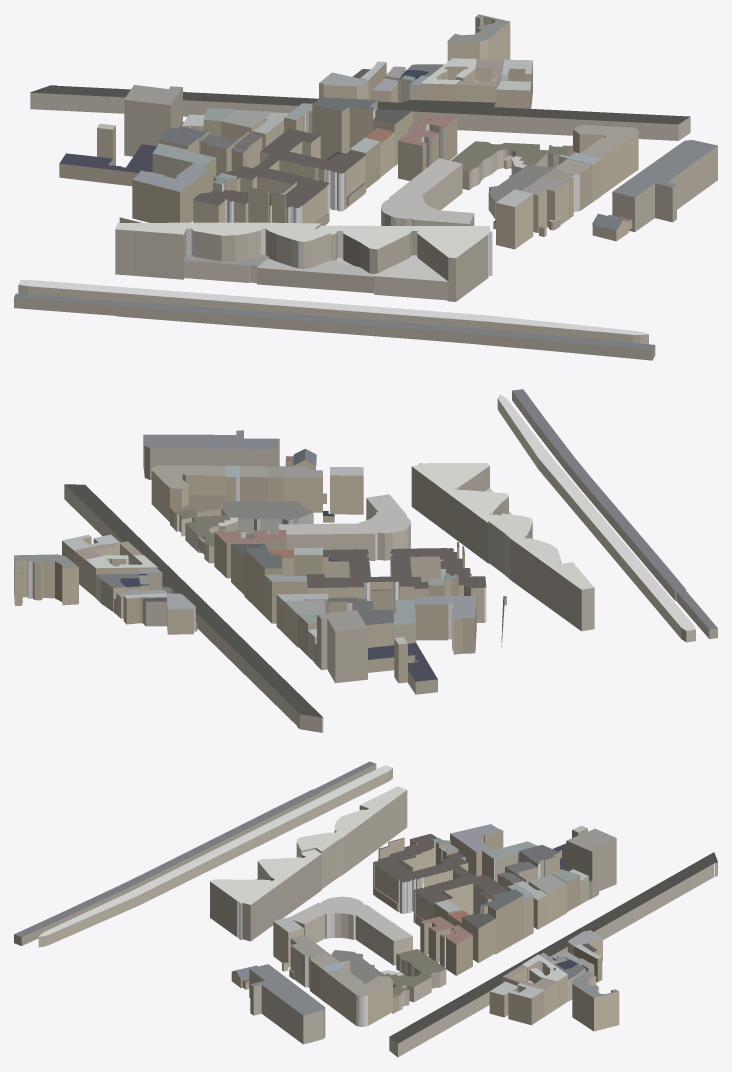
The picture shows the model from 3 angles, top to bottom: view 1: azimuth 30°, elevation 25°; view 2: azimuth 150°, elevation 25°; view 3: azimuth 270°, elevation 25°; orthographic projection. The views are drawn at different scales.
Parts seen in each view (by area): view 1: tuile; view 2: tuile; view 3: tuile.
Boxes of the visible parts, x1,y1,x2,y2 form: tuile: (14, 14, 717, 360); tuile: (14, 389, 717, 732); tuile: (14, 761, 717, 1057).
Bounding box in the file's own units: 413 × 33.99 × 436.
